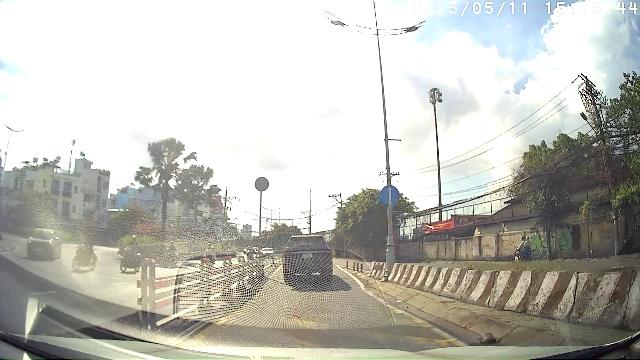301a-cac-xe-chi-duoc-di-thang: (380, 186, 400, 206)
